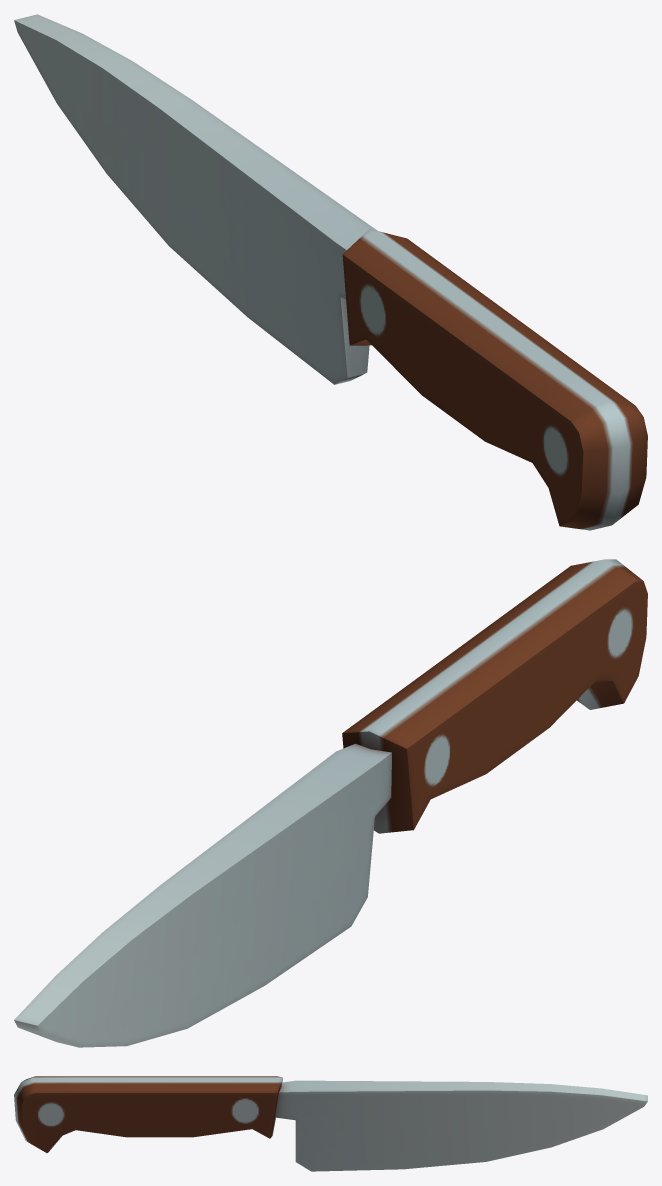
The model's file is medium_knife_01.fbx.
3 renders of one model, top to bottom at view 1: azimuth 30°, elevation 25°; view 2: azimuth 150°, elevation 25°; view 3: azimuth 270°, elevation 25°, orthographic. The views are drawn at different scales.
Parts seen in each view (by area): view 1: medium_knife_01; view 2: medium_knife_01; view 3: medium_knife_01.
Boxes of the visible parts, x1,y1,x2,y2 form: medium_knife_01: [14, 14, 647, 530]; medium_knife_01: [14, 559, 647, 1047]; medium_knife_01: [14, 1076, 647, 1171].
Size of the model in its own units: 3.09 by 7.91 by 49.41.
